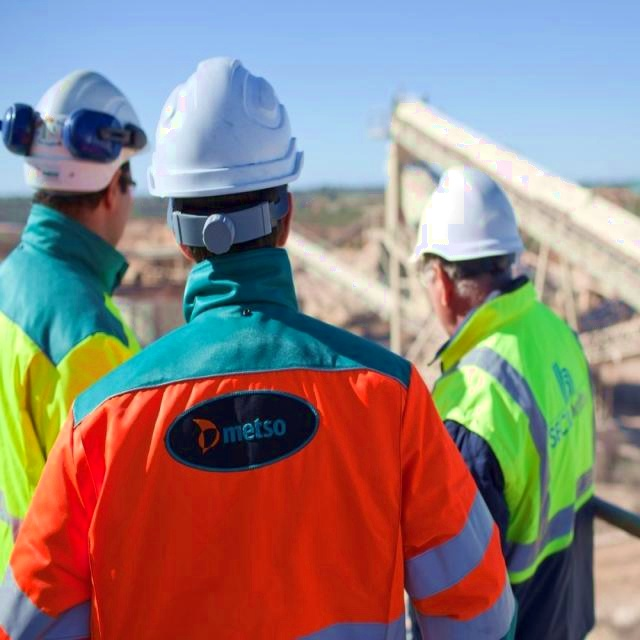Con_Casco: (156, 60, 304, 260), (421, 166, 527, 314)
Con_Chaleco: (436, 309, 605, 639)
